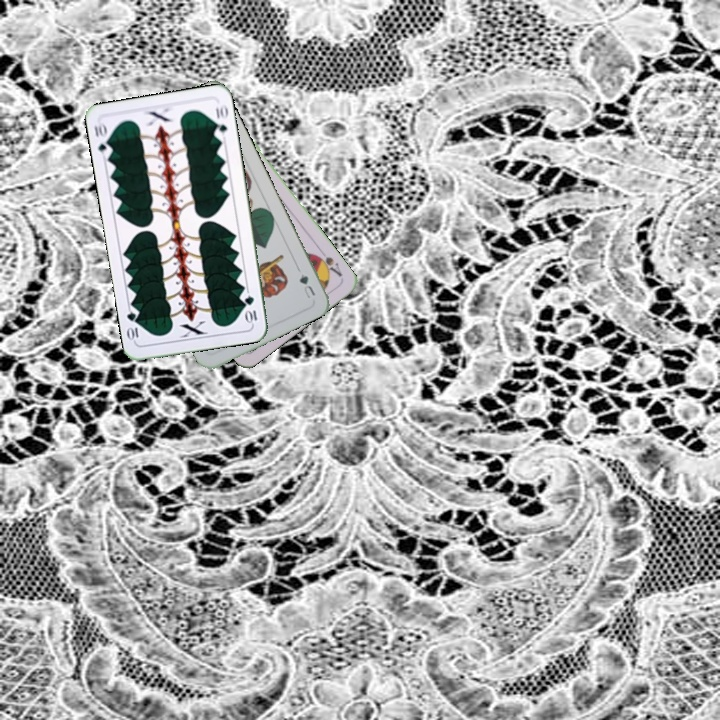G10: (90, 119, 114, 159), (241, 292, 260, 326)
GU: (293, 264, 318, 301)
SA: (311, 250, 345, 279)
